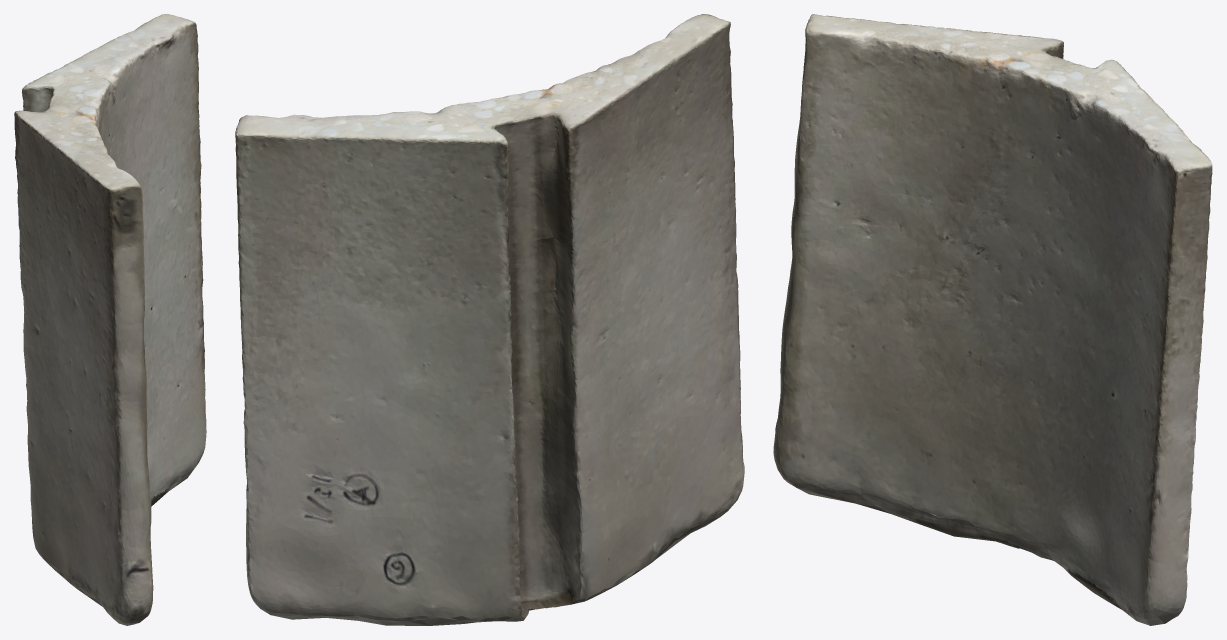
File: Basement 2.glb
The picture shows the model from 3 angles, left to right: view 1: azimuth 30°, elevation 25°; view 2: azimuth 150°, elevation 25°; view 3: azimuth 270°, elevation 25°; orthographic projection. The views are drawn at different scales.
Bounding box in the file's own units: 0.1528 × 0.2618 × 0.209.
Materials: 1 (1 with a texture image).
